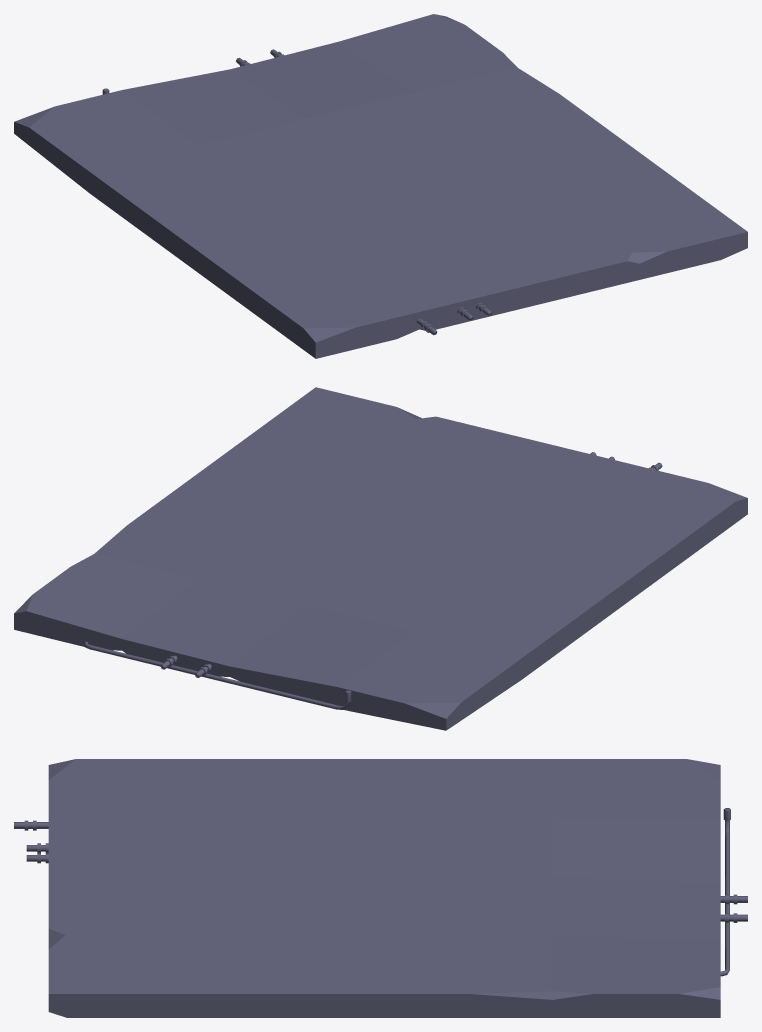
The model's file is concreteFloor4_LP.fbx.
The picture shows the model from 3 angles, top to bottom: view 1: azimuth 30°, elevation 25°; view 2: azimuth 150°, elevation 25°; view 3: azimuth 270°, elevation 25°; orthographic projection. The views are drawn at different scales.
Parts seen in each view (by area): view 1: cFloor21_LP, cFloor16_LP; view 2: cFloor21_LP, cFloor16_LP; view 3: cFloor21_LP, cFloor16_LP.
Part boxes in pixels (x1,y1,x2,y2): cFloor21_LP: (14, 14, 747, 358); cFloor16_LP: (102, 49, 491, 335); cFloor21_LP: (14, 387, 747, 730); cFloor16_LP: (84, 452, 662, 709); cFloor21_LP: (48, 759, 720, 1017); cFloor16_LP: (14, 808, 747, 976).
Bounding box in the file's own units: 803 × 40.36 × 1060.
